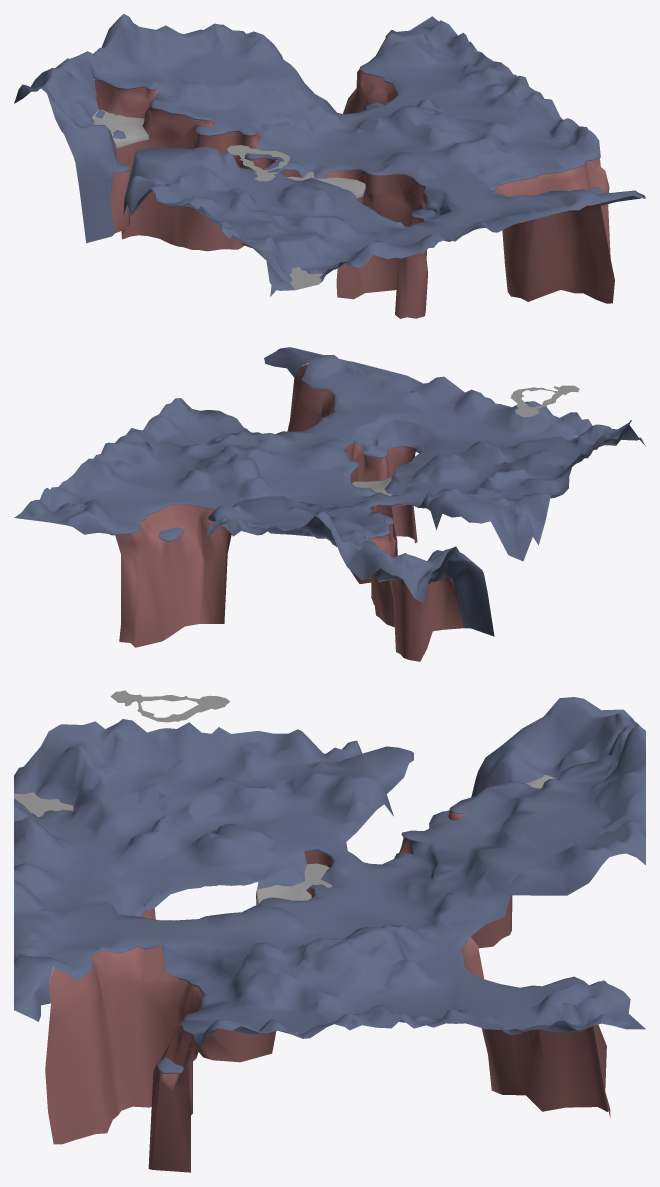
Rendered from f_9999_floor_t4m.FBX.
3 renders of one model, top to bottom at view 1: azimuth 30°, elevation 25°; view 2: azimuth 150°, elevation 25°; view 3: azimuth 270°, elevation 25°, orthographic. The views are drawn at different scales.
Visible parts, largest first — view 1: Unity_terrain, Object003, terrain002, terrain004, terrain02, terrain001; view 2: Unity_terrain, Object003, terrain004; view 3: Unity_terrain, Object003, terrain004, terrain02, terrain001.
Part boxes in pixels (<box>): Unity_terrain: <box>14,14,645,296</box>; Object003: <box>94,69,614,318</box>; terrain002: <box>92,109,148,148</box>; terrain004: <box>227,145,290,181</box>; terrain02: <box>287,172,365,198</box>; terrain001: <box>289,267,325,289</box>; Unity_terrain: <box>14,347,645,636</box>; Object003: <box>115,364,464,661</box>; terrain004: <box>510,385,579,416</box>; Unity_terrain: <box>14,697,645,1073</box>; Object003: <box>45,786,610,1172</box>; terrain004: <box>110,690,229,722</box>; terrain02: <box>256,863,331,905</box>; terrain001: <box>14,792,73,817</box>.
Bounding box in the file's own units: 40248 × 18400 × 40000.
